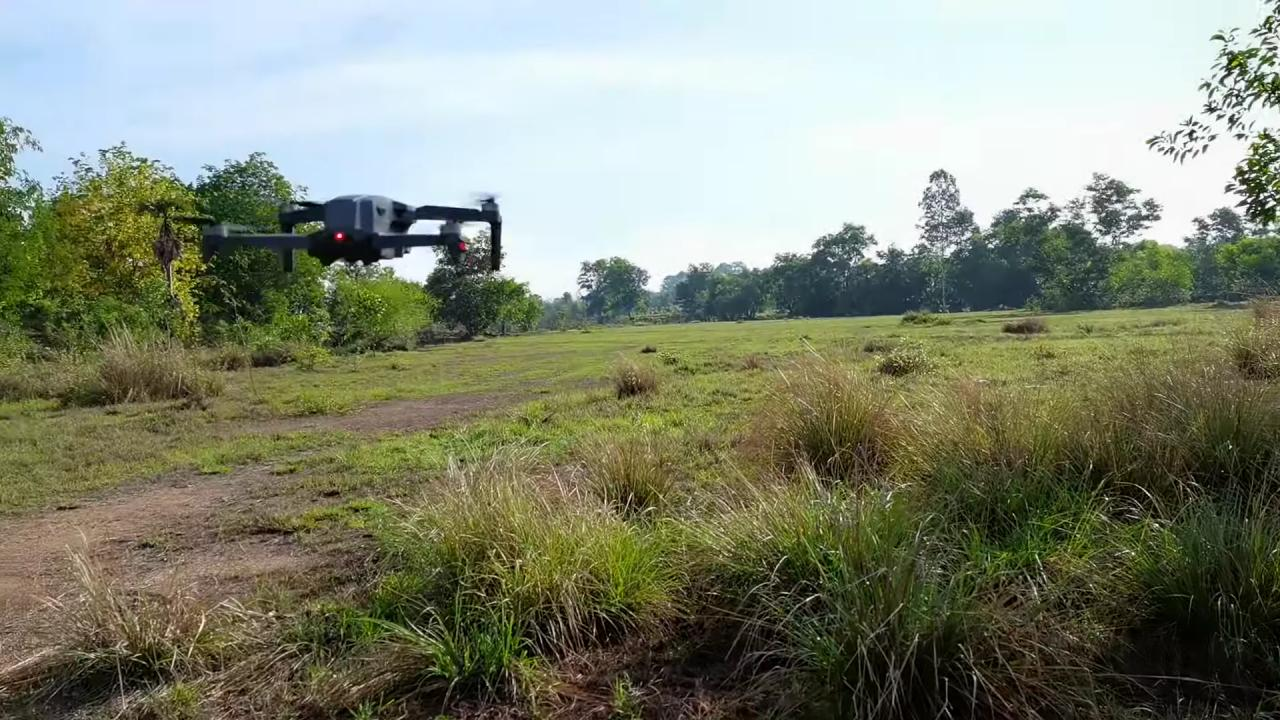Drone: (181, 182, 512, 278)
